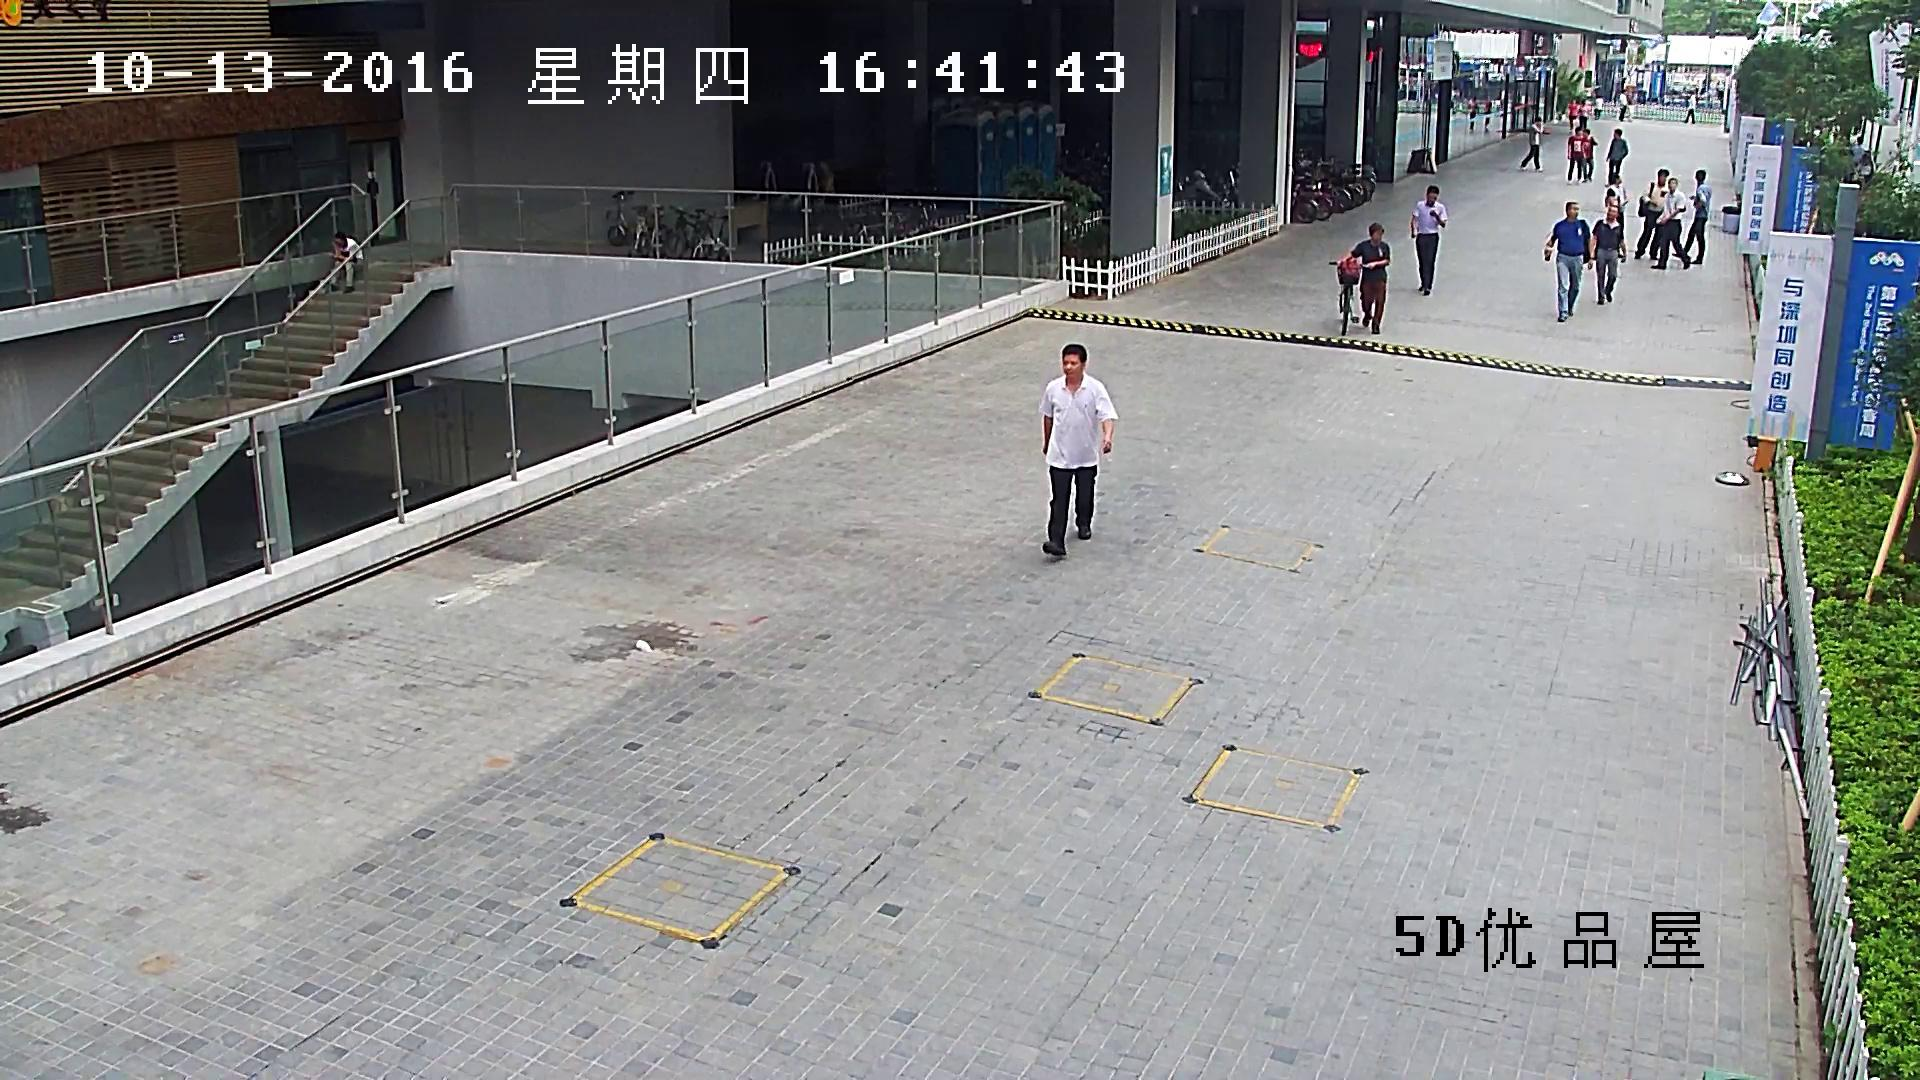person: (1039, 343, 1118, 555), (1327, 222, 1388, 335), (1338, 222, 1389, 334), (1544, 201, 1590, 322), (1410, 184, 1447, 295), (1671, 169, 1711, 264), (1650, 177, 1691, 269), (1590, 206, 1626, 305), (1634, 168, 1669, 259), (1603, 172, 1628, 258), (329, 232, 364, 293), (1604, 128, 1627, 188), (1520, 116, 1543, 172), (1581, 129, 1598, 182), (1567, 126, 1581, 183), (1683, 92, 1695, 124), (1566, 99, 1578, 129), (1619, 90, 1627, 122), (1593, 94, 1602, 120), (1578, 100, 1587, 129)
